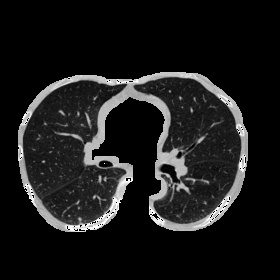PN: (78, 217, 82, 221)
